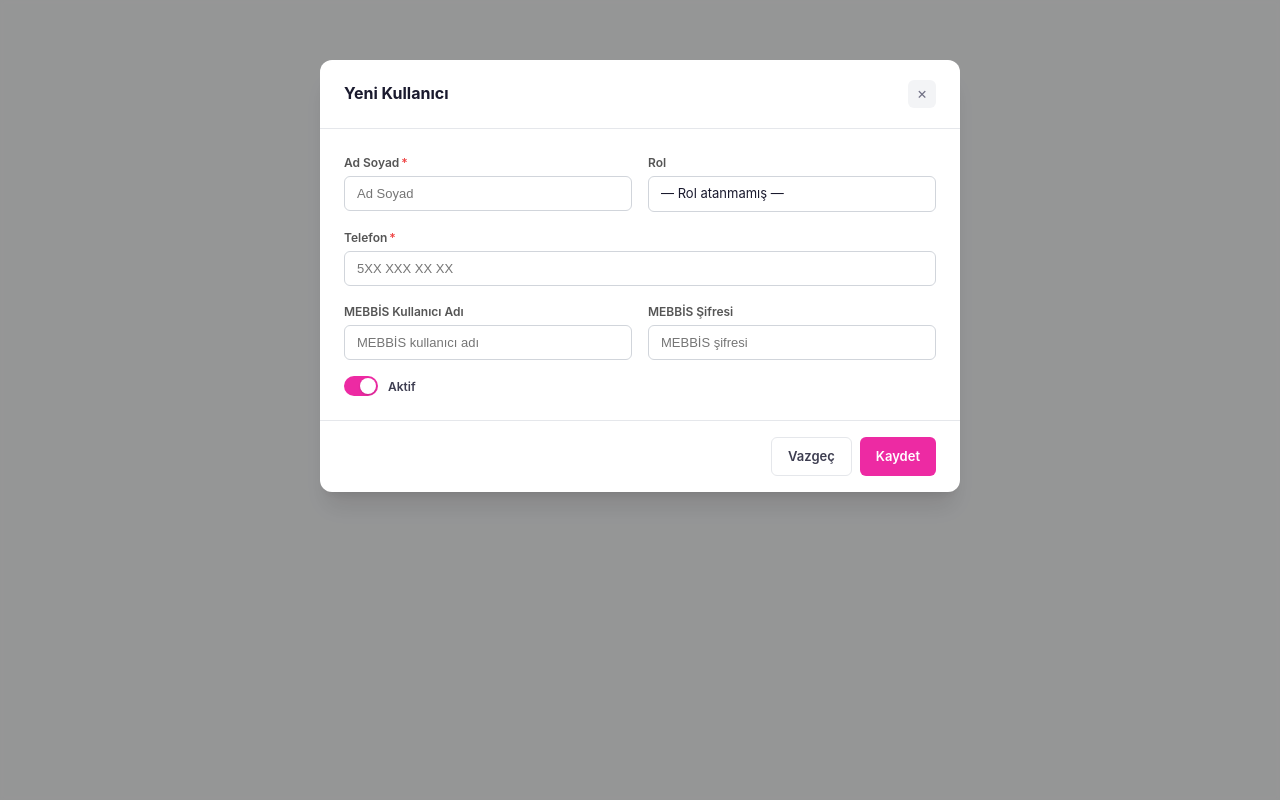
Test: UserFormModal › shows a validation error when phone is missing
Type "Kemal Can" into the field with placeholder "Ad Soyad" at [488, 194], box x1=344 y1=176 x2=632 y2=211
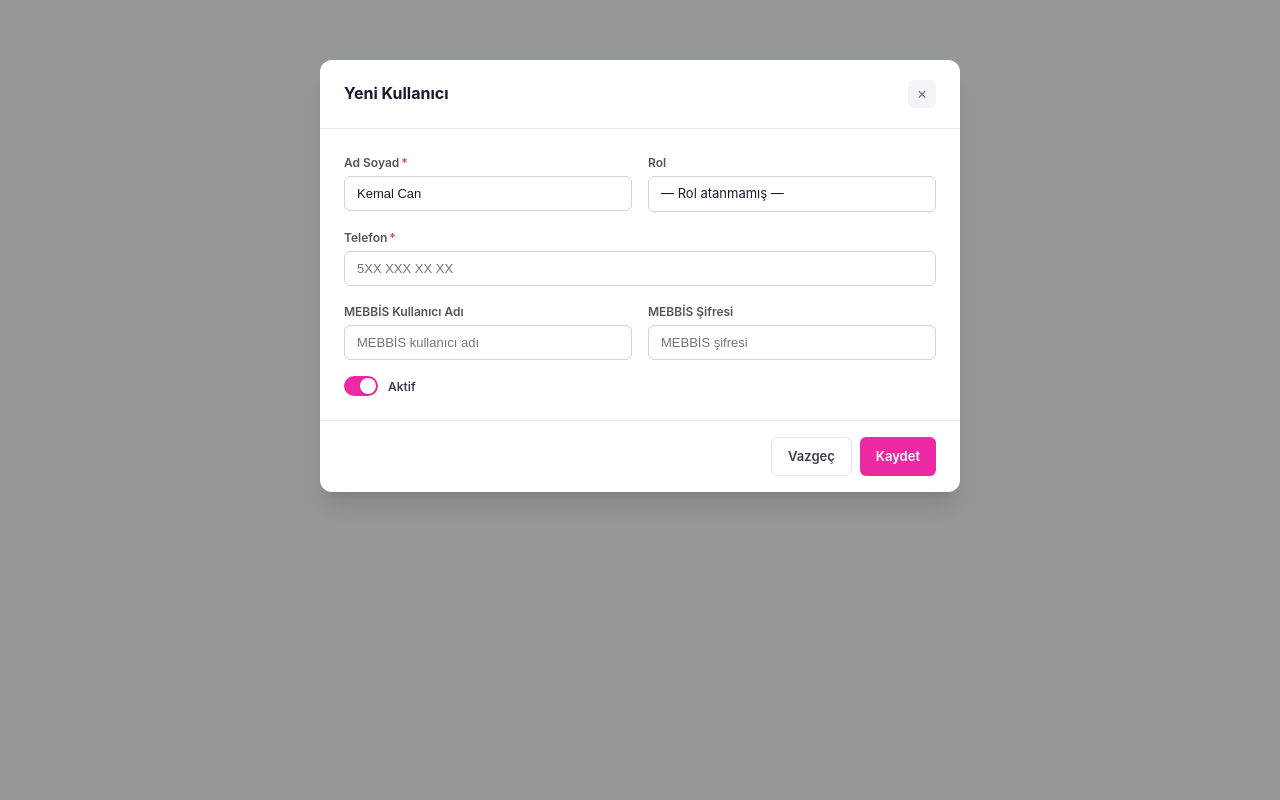
Click the button "Kaydet" at [898, 457], box x1=860 y1=437 x2=936 y2=476
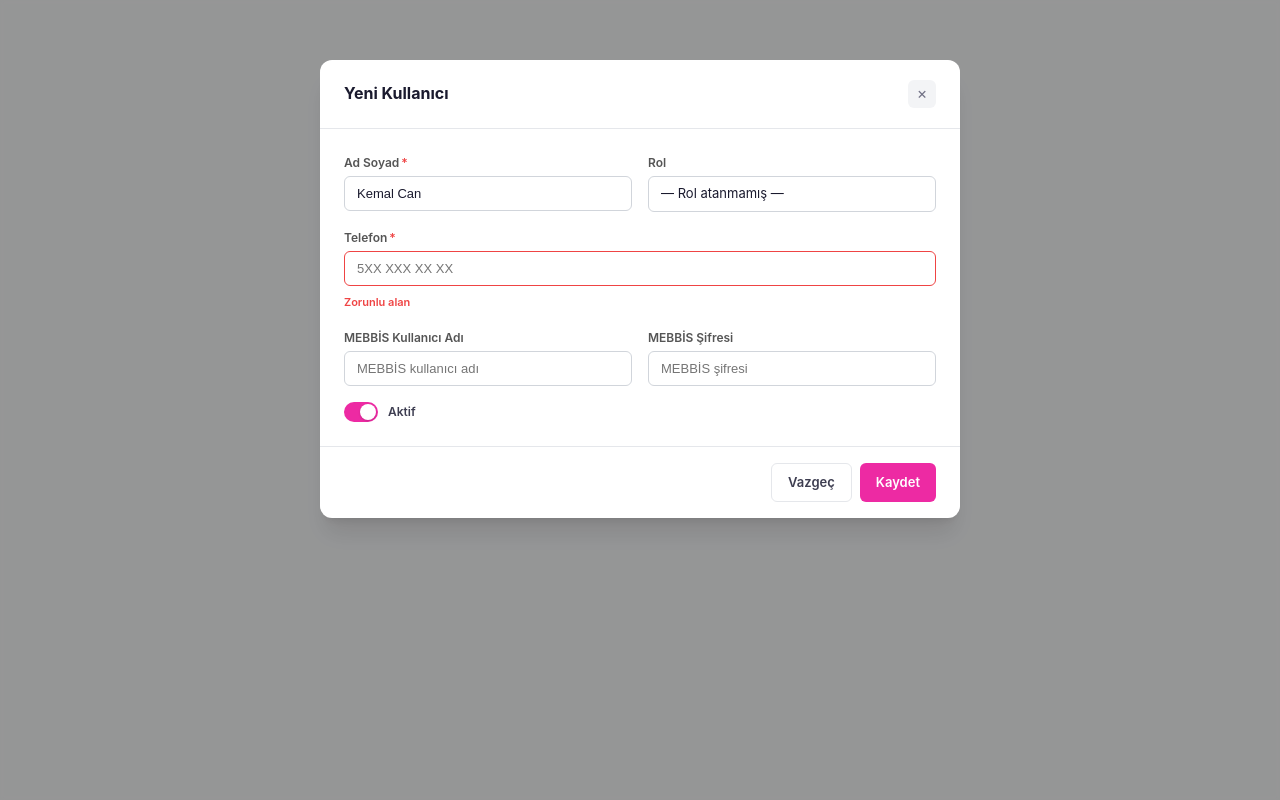
Check: the text "Zorunlu alan" is shown, box x1=344 y1=295 x2=410 y2=309
